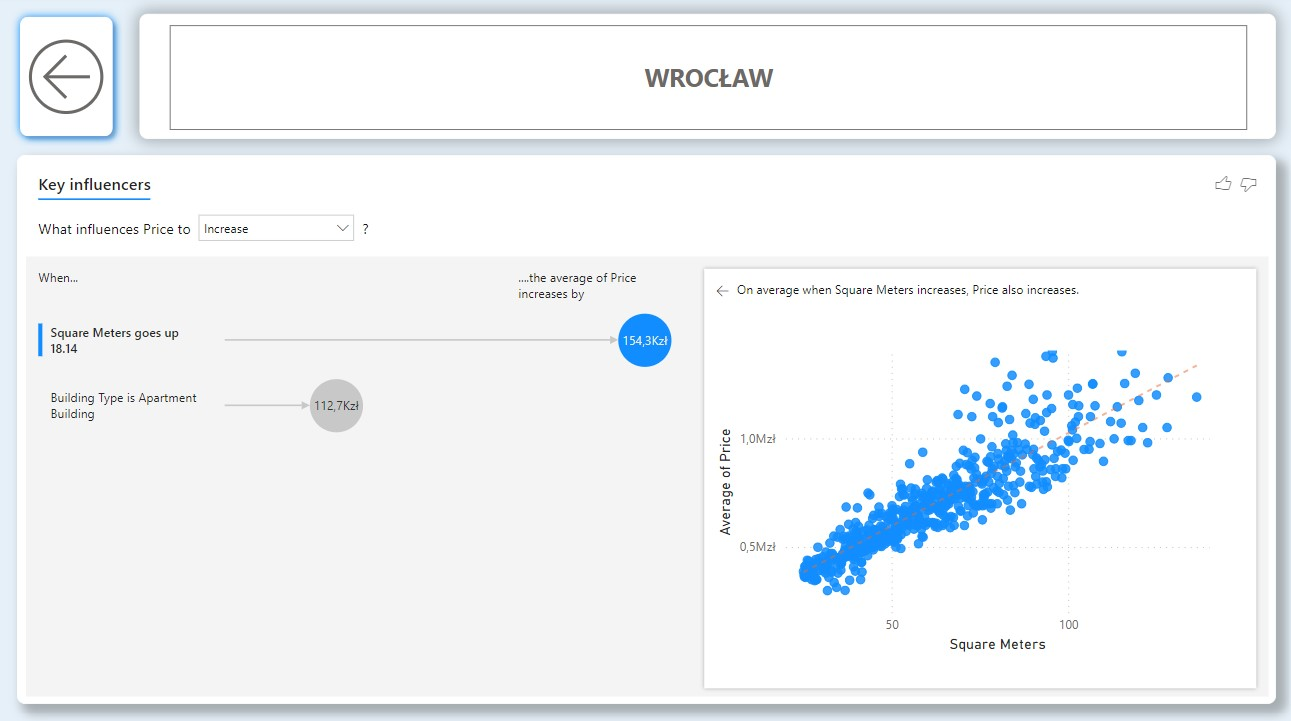

The dashboard page shown, as its layout file describes it:
{"tool":"powerbi","page":{"name":"Key Influencers","canvas":[1280,720],"ordinal":4},"visuals":[{"type":"keyDriversVisual","fields":{"Target":["_Measures.Avg Price"],"ExplainBy":["Apartments_data.Age Bins","Sum(Apartments_data.rooms)","Sum(Apartments_data.square_meters)","Sum(Apartments_data.floor)","DIM_Building_types.building_type"]},"box":[24.1,156.8,1231.4,536.7],"z":0},{"type":"actionButton","box":[18.8,12.5,108.8,135],"z":1000},{"type":"slicer","fields":{"Values":["DIM_City.city"]},"box":[143.8,18.8,1111.2,122.5],"z":2000}]}

Visuals, with their boxes in screenshot pixels (x1, y1, x2, y2), scaled from the page's 1280x720 canvas onto the 1291x721 screenshot:
keyDriversVisual - _Measures.Avg Price x Apartments_data.Age Bins: 24 157 1266 694
actionButton: 19 13 129 148
slicer - DIM_City.city: 145 19 1266 141
